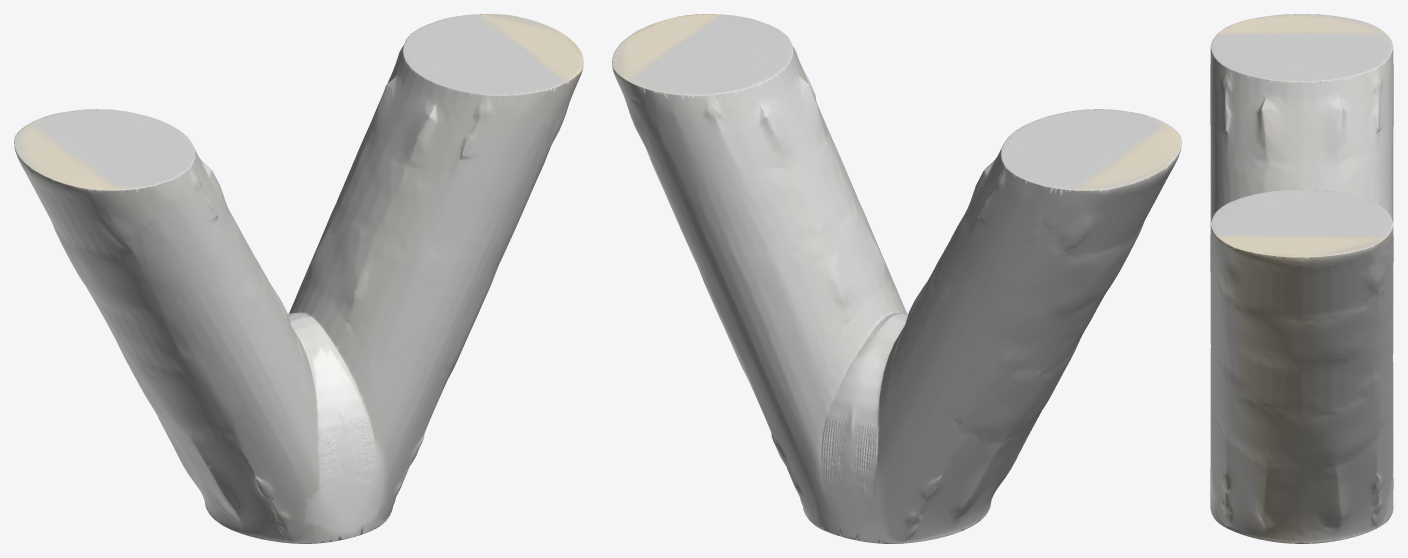
Rendered from velvett.glb.
3 views of the same model, side by side, from view 1: azimuth 30°, elevation 25°; view 2: azimuth 150°, elevation 25°; view 3: azimuth 270°, elevation 25° (orthographic). The views are drawn at different scales.
Size of the model in its own units: 1.9 by 1.35 by 0.604.
1 material, 1 textured.
